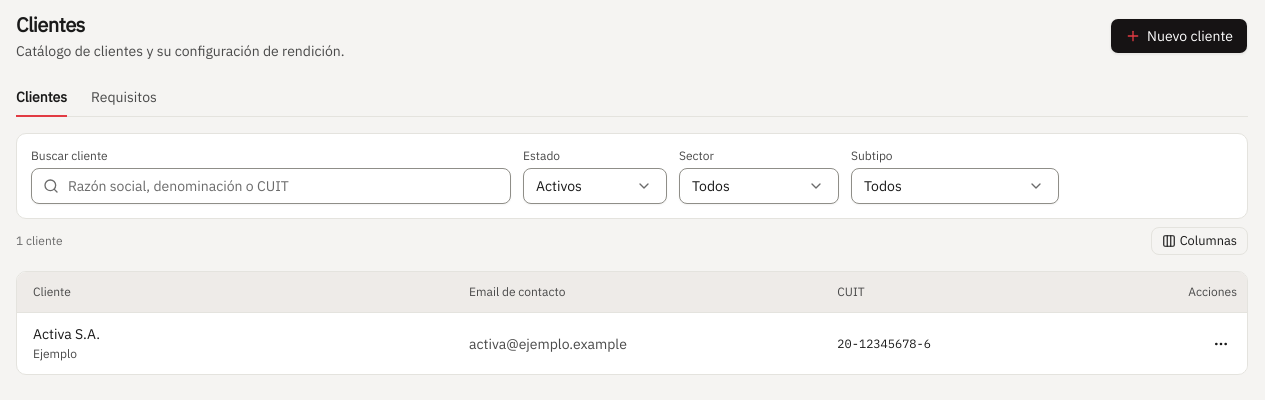
it: ClientesPage: columnas de la tabla › pasar de Activos a Inactivos no cambia ni duplica la preferencia
The width and height of the screenshot is (1265, 400).
Expected: the table named "Clientes" is shown, x1=17 y1=272 x2=1247 y2=374
Click the dropdown named "Estado" at (595, 186), box x1=523 y1=168 x2=667 y2=204
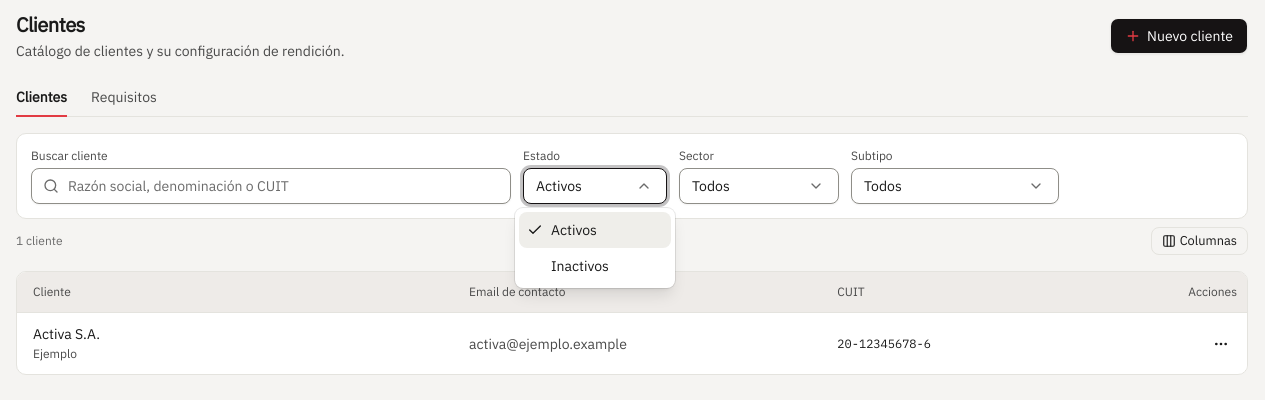
Click the option "Inactivos" at (580, 266), box x1=551 y1=257 x2=609 y2=275
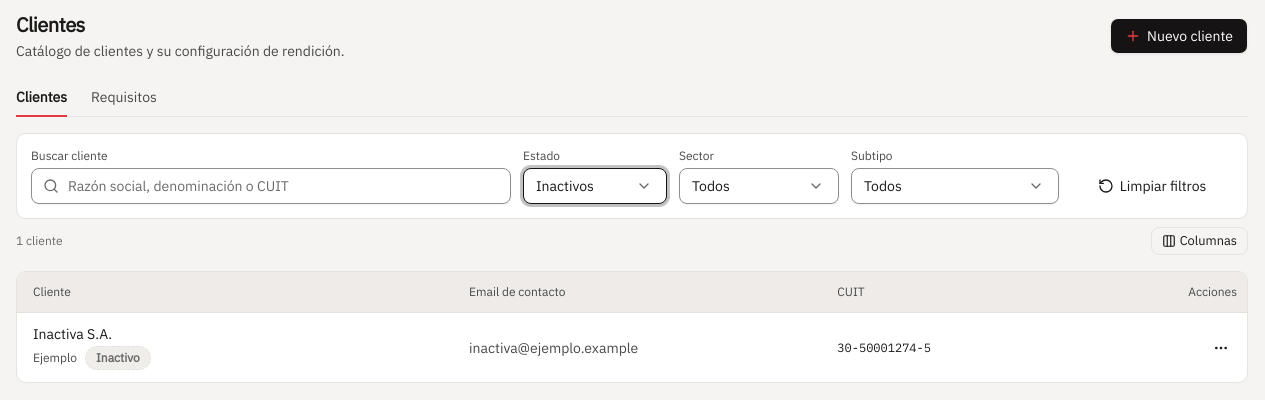
Expected: the list is gone
Expected: the row "Inactiva S.A." is shown, x1=17 y1=313 x2=1247 y2=382
Click the dropdown named "Estado" at (595, 186), box x1=523 y1=168 x2=667 y2=204
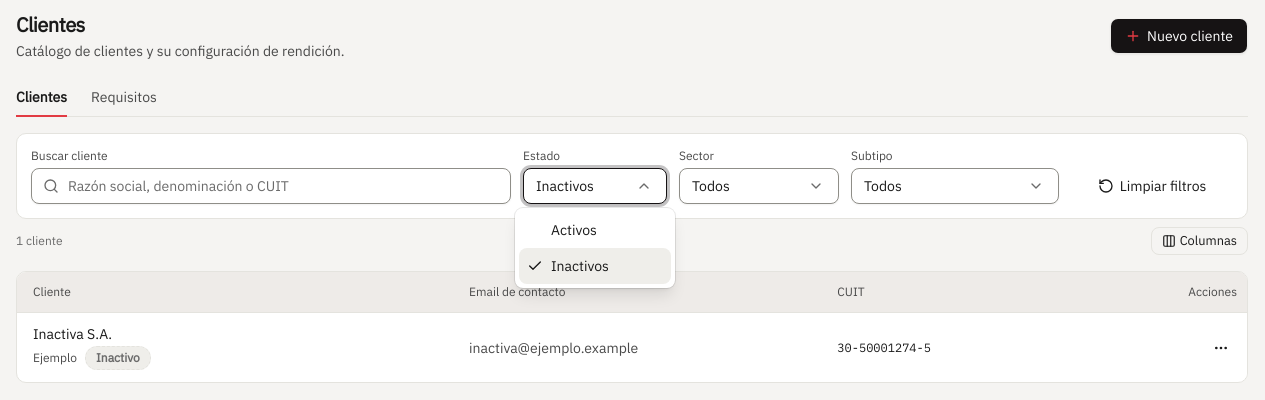
Click the option "Activos" at (574, 230), box x1=551 y1=221 x2=597 y2=239
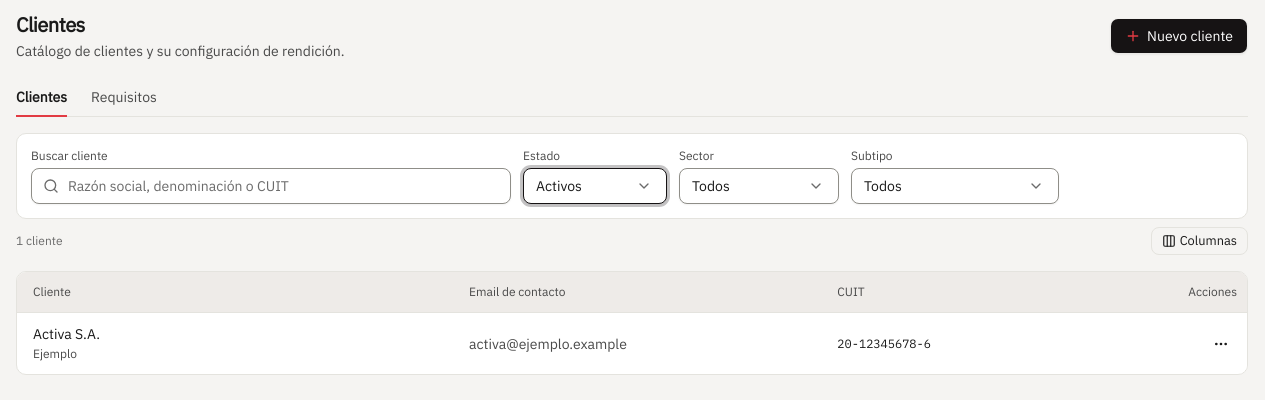
Expected: the row "Activa S.A. Ejemplo activa@ejemplo.example 20-12345678-6" is shown, x1=17 y1=313 x2=1247 y2=374
Expected: the list is gone
